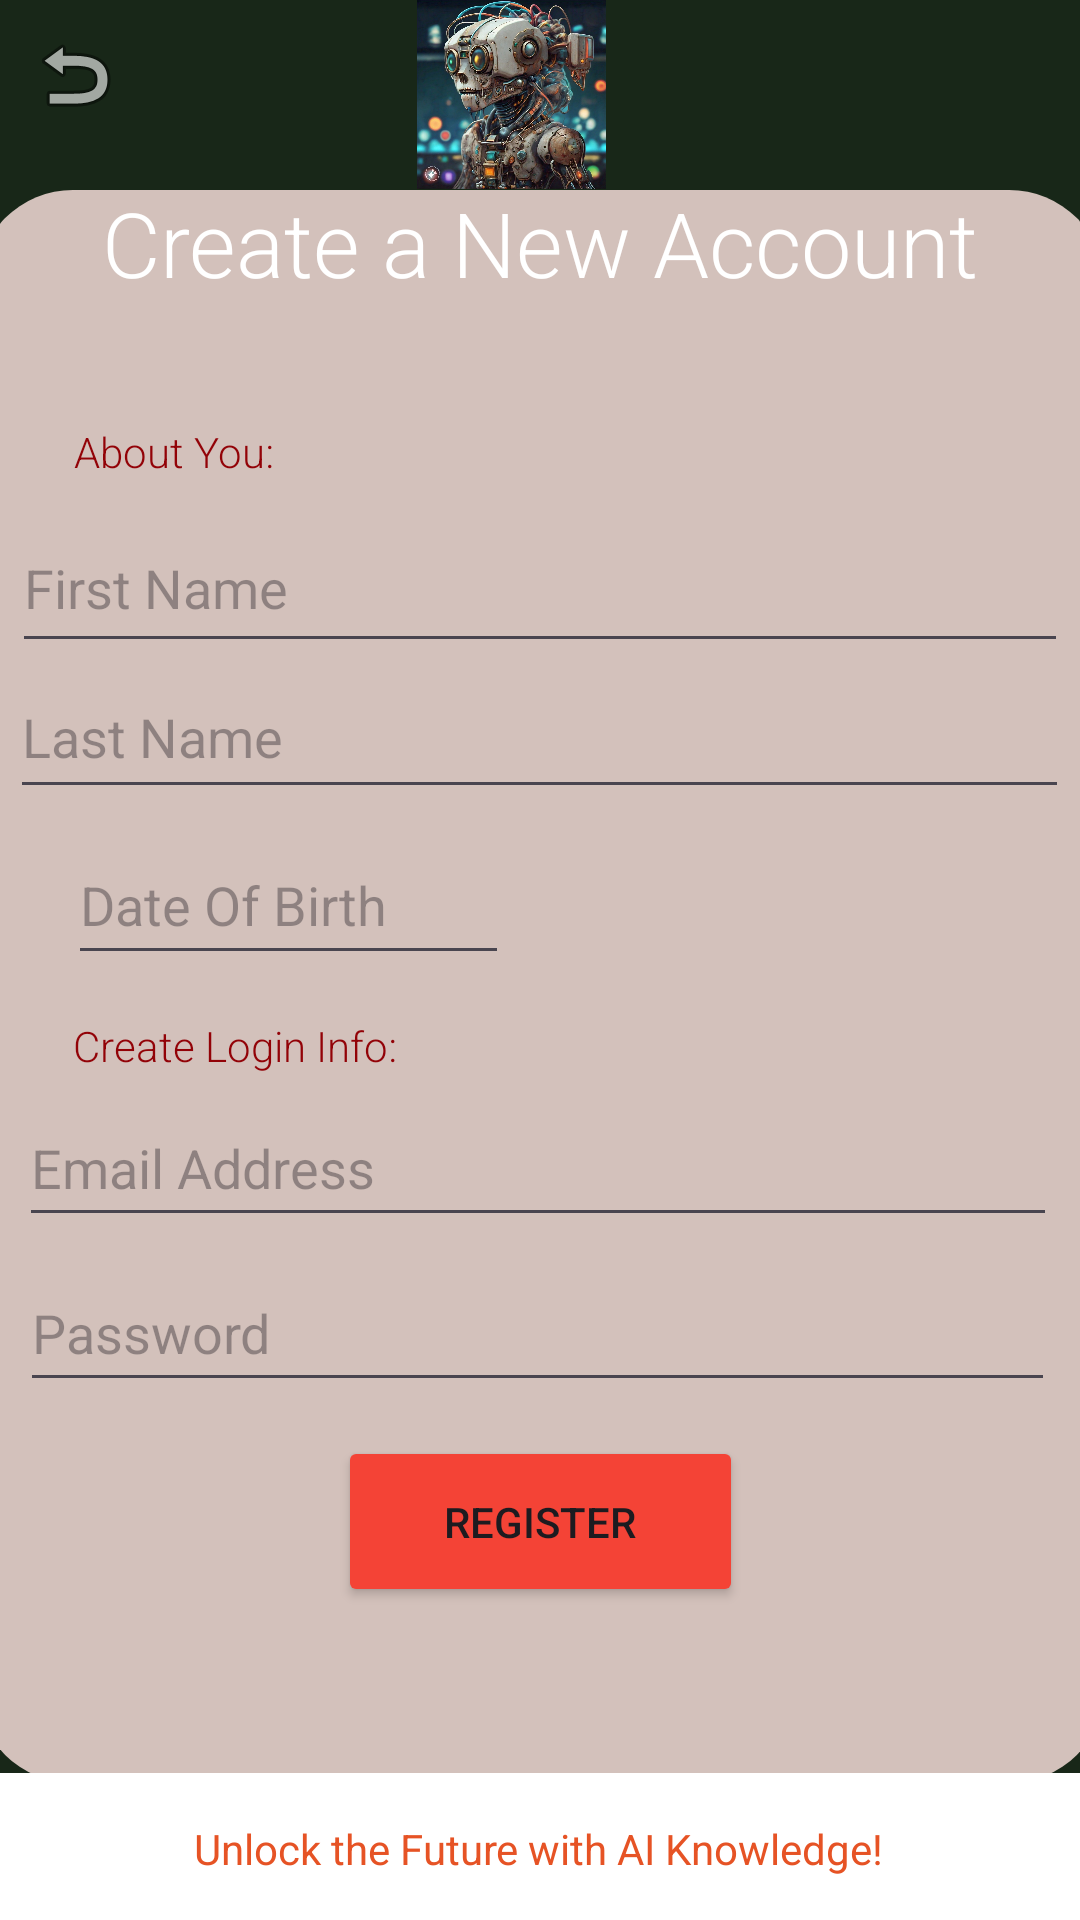

Icon click points for this 1080 x 1920 phone screenshot, format [x,y]:
Back Button: [76,75]
